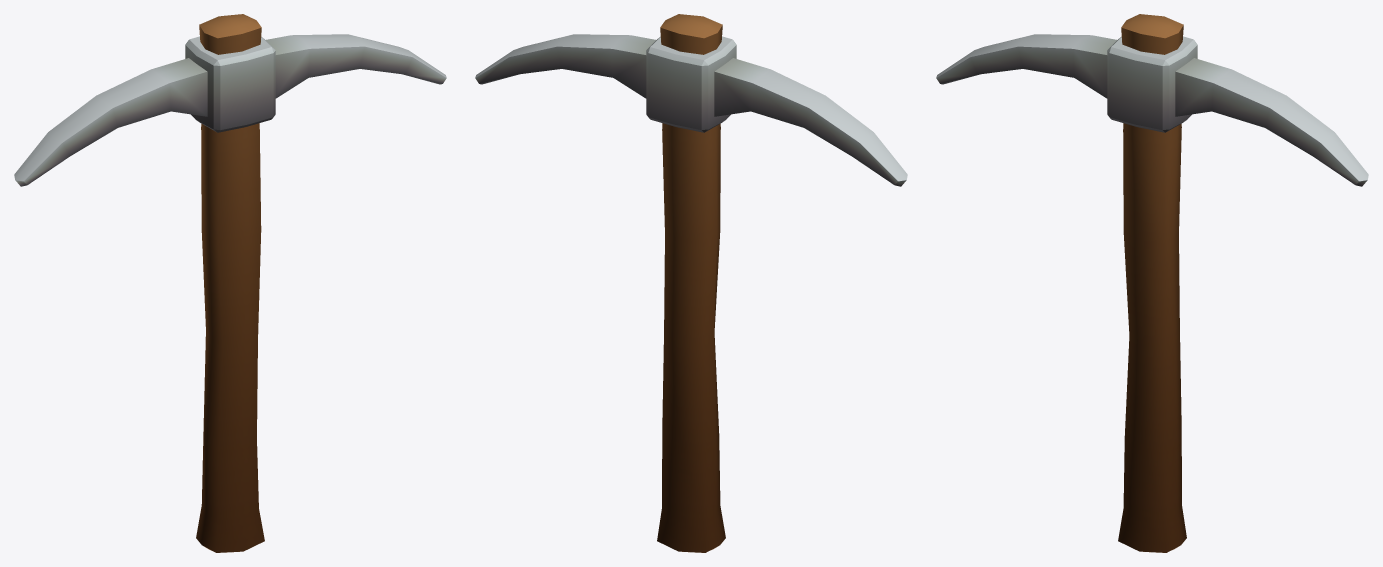
Rendered from Pickaxe_02.obj.
3 renders of one model, left to right at view 1: azimuth 30°, elevation 25°; view 2: azimuth 150°, elevation 25°; view 3: azimuth 330°, elevation 25°, orthographic.
Parts seen in each view (by area): view 1: Pickaxe_02; view 2: Pickaxe_02; view 3: Pickaxe_02.
Boxes of the visible parts, bbox=[...] form: Pickaxe_02: bbox=[14, 14, 446, 552]; Pickaxe_02: bbox=[475, 14, 907, 552]; Pickaxe_02: bbox=[936, 14, 1368, 552].
Size of the model in its own units: 0.8812 by 1.03 by 0.1256.
